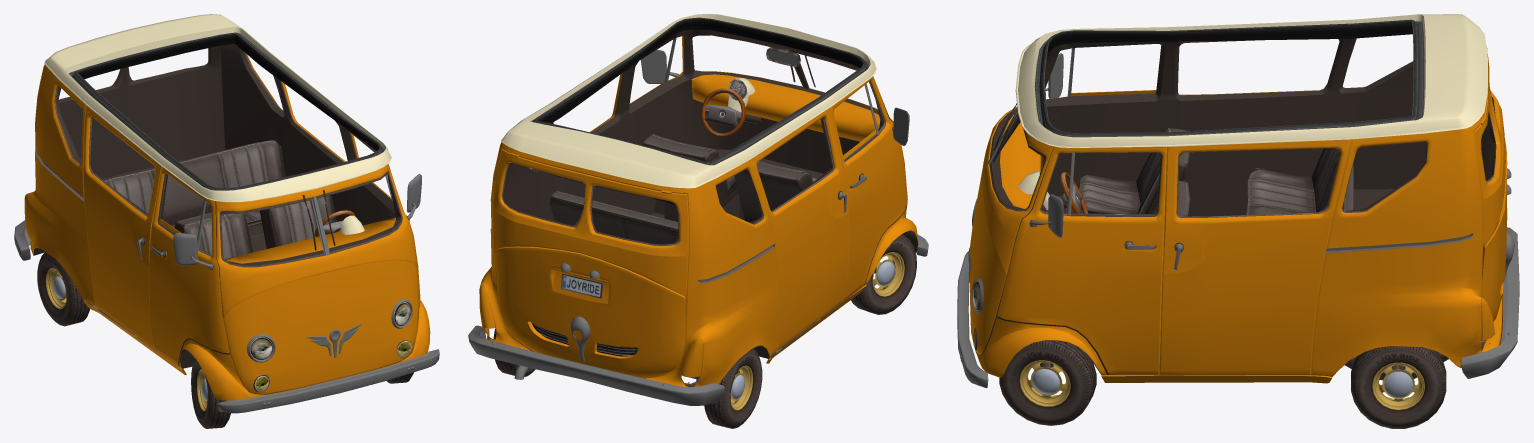
File: camper0.glb
3 renders of one model, left to right at view 1: azimuth 30°, elevation 25°; view 2: azimuth 150°, elevation 25°; view 3: azimuth 270°, elevation 25°, orthographic. The views are drawn at different scales.
Parts seen in each view (by area): view 1: node_id129, node_id131, node_id51, node_id133, node_id53, node_id46, node_id141, node_id96, node_id139, node_id118, node_id151, node_id98 (+6 smaller); view 2: node_id129, node_id131, node_id133, node_id48, node_id53, node_id51, node_id141, node_id82, node_id96, node_id79, node_id123, node_id93 (+10 smaller); view 3: node_id129, node_id131, node_id133, node_id51, node_id53, node_id154, node_id89, node_id141, node_id48, node_id158, node_id86, node_id46 (+5 smaller).
Part boxes in pixels (bbox=[...]): node_id129: bbox=[24, 14, 430, 400]; node_id131: bbox=[33, 44, 419, 394]; node_id51: bbox=[103, 140, 285, 237]; node_id133: bbox=[69, 32, 384, 190]; node_id53: bbox=[174, 195, 336, 259]; node_id46: bbox=[217, 349, 439, 413]; node_id141: bbox=[35, 52, 402, 267]; node_id96: bbox=[37, 255, 71, 322]; node_id139: bbox=[197, 174, 412, 362]; node_id118: bbox=[173, 233, 212, 269]; node_id151: bbox=[250, 302, 410, 359]; node_id98: bbox=[39, 252, 89, 326]; node_id129: bbox=[479, 14, 918, 387]; node_id131: bbox=[503, 29, 917, 358]; node_id133: bbox=[531, 17, 869, 165]; node_id48: bbox=[468, 325, 724, 405]; node_id53: bbox=[642, 134, 817, 222]; node_id51: bbox=[549, 190, 678, 244]; node_id141: bbox=[490, 36, 885, 283]; node_id82: bbox=[864, 238, 916, 311]; node_id96: bbox=[725, 351, 762, 425]; node_id79: bbox=[872, 252, 904, 296]; node_id123: bbox=[641, 49, 679, 83]; node_id93: bbox=[722, 365, 753, 410]; node_id129: bbox=[970, 14, 1507, 383]; node_id131: bbox=[975, 38, 1495, 374]; node_id133: bbox=[1034, 19, 1424, 137]; node_id51: bbox=[1246, 148, 1353, 214]; node_id53: bbox=[1079, 127, 1190, 216]; node_id154: bbox=[1356, 346, 1441, 426]; node_id89: bbox=[1003, 344, 1087, 423]; node_id141: bbox=[989, 61, 1496, 253]; node_id48: bbox=[1460, 227, 1519, 378]; node_id158: bbox=[1372, 362, 1424, 410]; node_id86: bbox=[1019, 360, 1070, 406]; node_id46: bbox=[957, 251, 988, 388].
Bounding box in the file's own units: 0.512 × 0.4885 × 0.8131.
56 materials, 56 textured.
